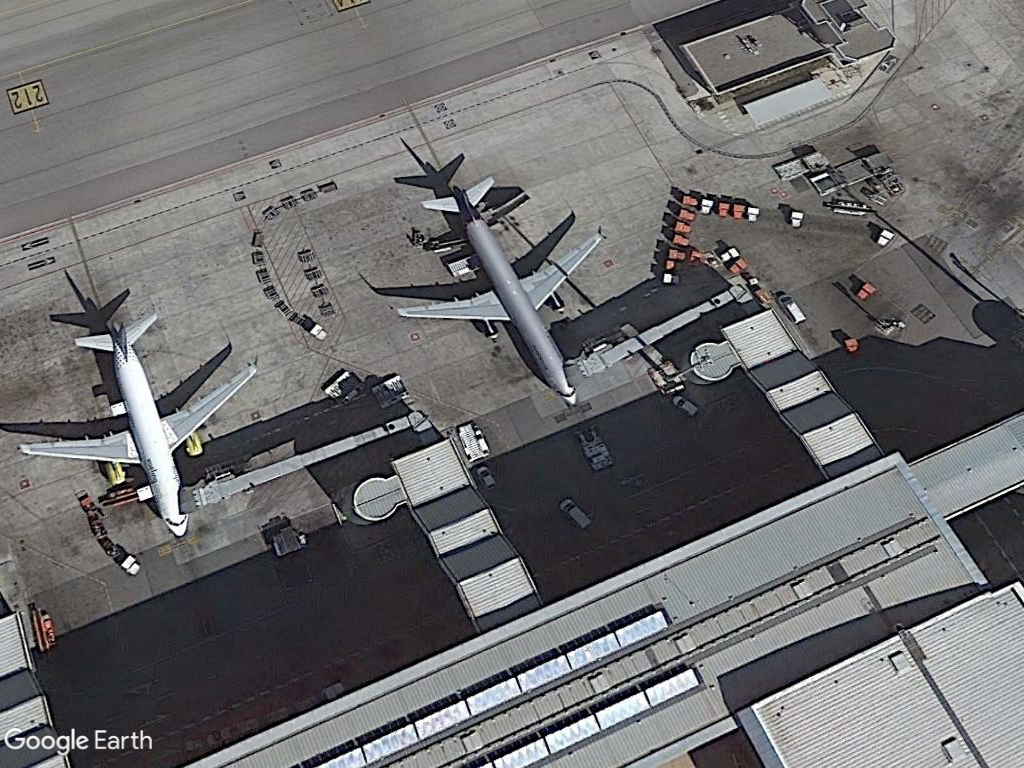airliner: (18, 308, 262, 542), (383, 169, 610, 413)
pushbacktruck: (570, 422, 617, 474)
